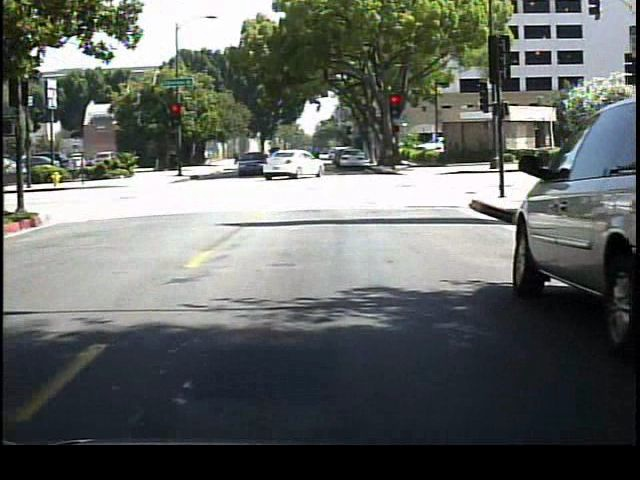person: (306, 143, 323, 178)
